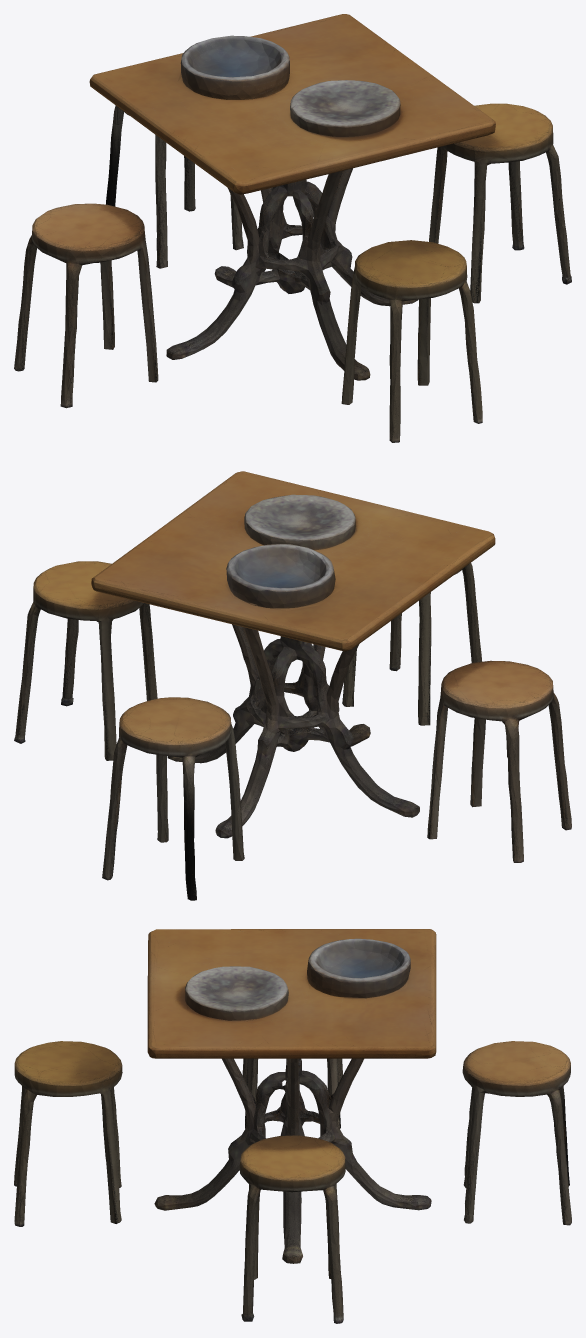
3 renders of one model, top to bottom at view 1: azimuth 30°, elevation 25°; view 2: azimuth 150°, elevation 25°; view 3: azimuth 270°, elevation 25°, orthographic. The views are drawn at different scales.
Visible parts, largest first — view 1: world; view 2: world; view 3: world.
Boxes of the visible parts, x1,y1,x2,y2 form: world: (14, 14, 571, 442); world: (14, 471, 571, 900); world: (14, 929, 571, 1323).
Size of the model in its own units: 86.43 by 40.74 by 86.13.
1 material, 1 textured.
